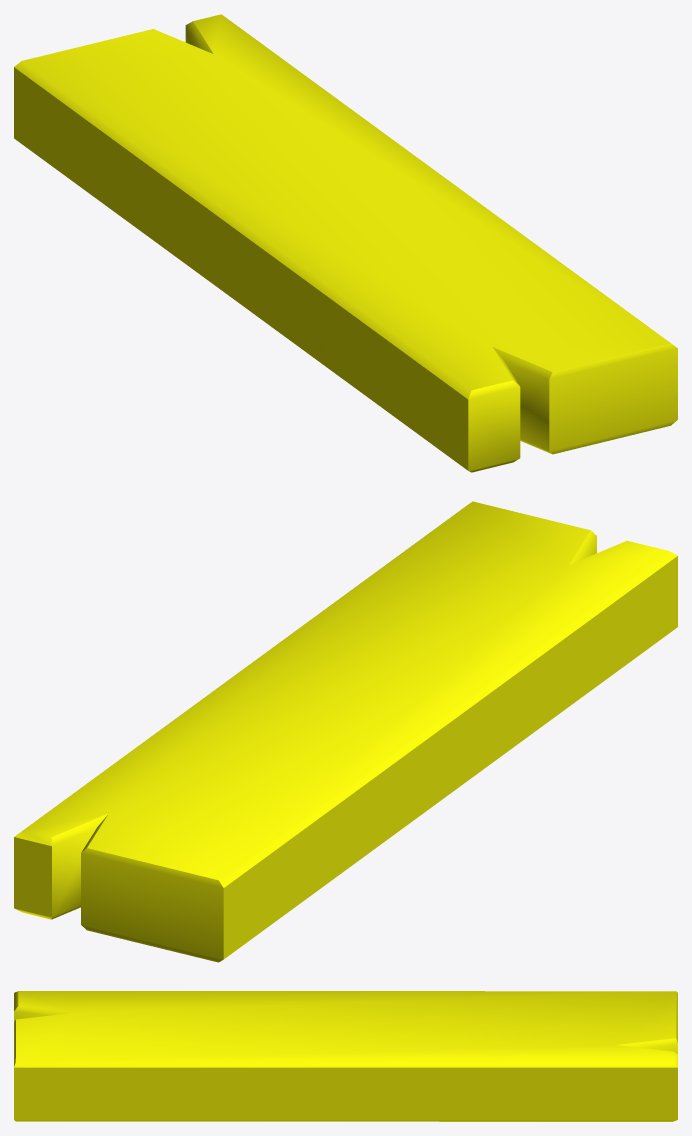
File: kaykit-wood-plank-c.glb
3 renders of one model, top to bottom at view 1: azimuth 30°, elevation 25°; view 2: azimuth 150°, elevation 25°; view 3: azimuth 270°, elevation 25°, orthographic. The views are drawn at different scales.
Visible parts, largest first — view 1: Wood_Plank_C; view 2: Wood_Plank_C; view 3: Wood_Plank_C.
Boxes of the visible parts, box(x1,y1,x2,y2) form: Wood_Plank_C: box(14, 14, 677, 472); Wood_Plank_C: box(14, 501, 677, 962); Wood_Plank_C: box(14, 991, 677, 1121).
Size of the model in its own units: 0.4 by 0.15 by 1.5.
